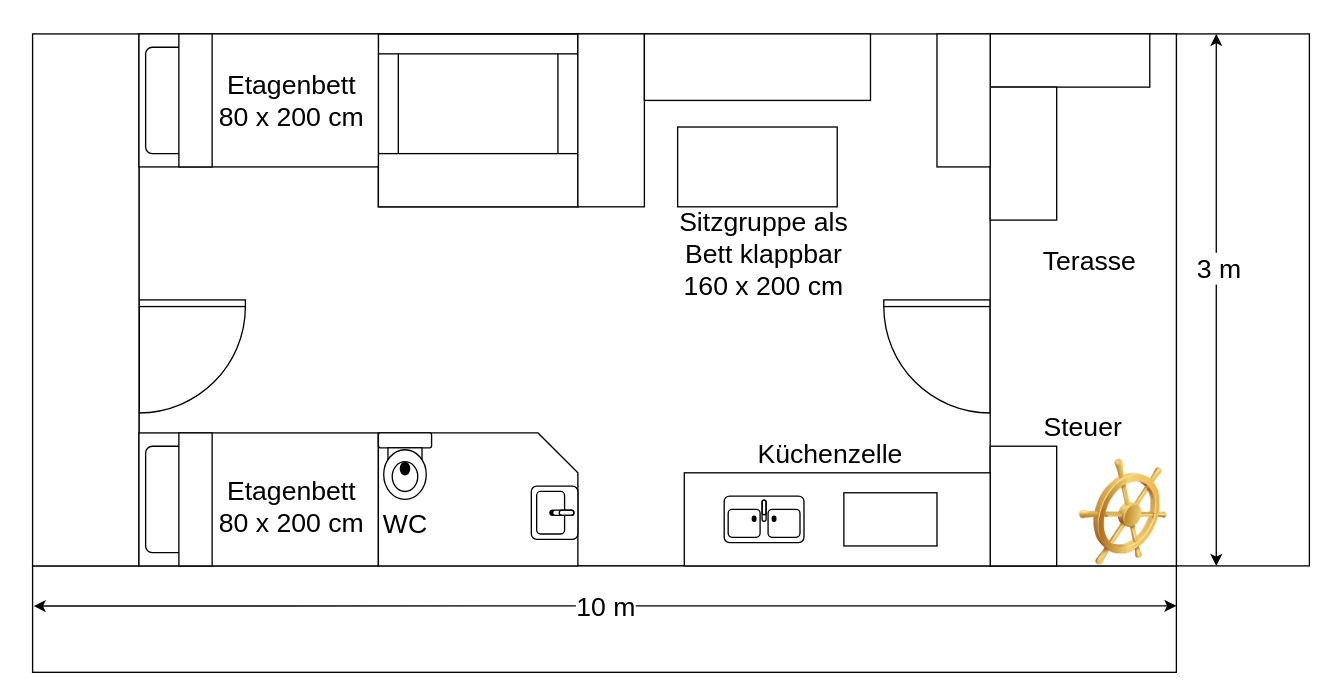
Image size: 1334x696. Some labels were removed from this diagram. Here are the shapes that lost their labels. From the top down, the centre of each, then its label:
At point 477,120: "Schrank".
At point 85,299: "Achterdeck".
